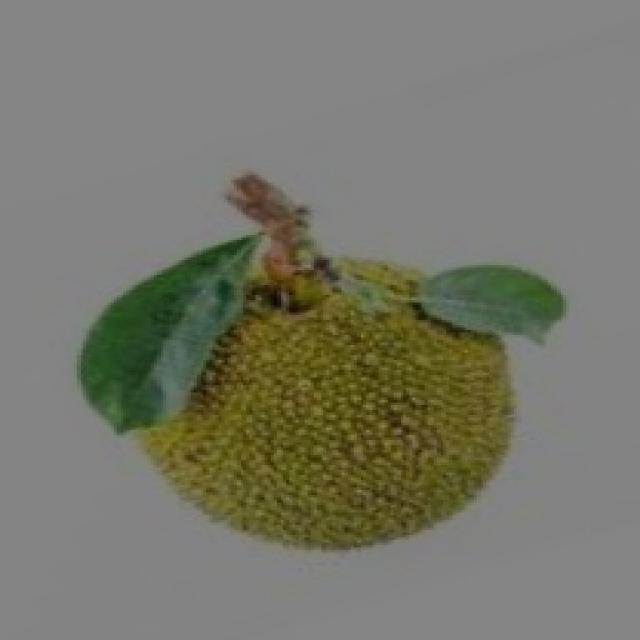Fruit: (126, 245, 542, 580)
